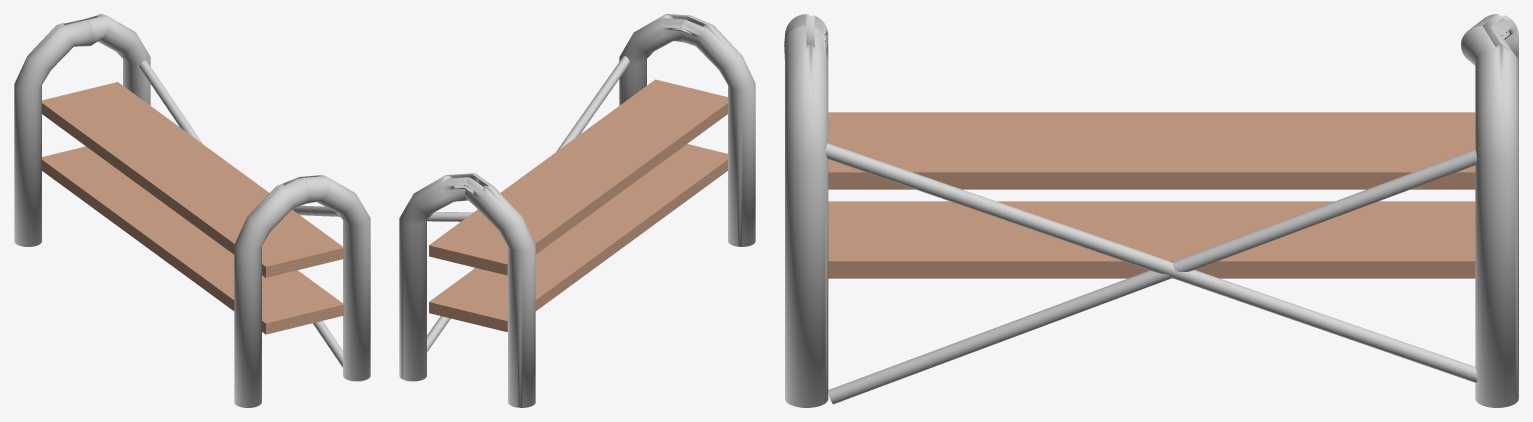
The model's file is shelf.dae.
3 views of the same model, side by side, from view 1: azimuth 30°, elevation 25°; view 2: azimuth 150°, elevation 25°; view 3: azimuth 270°, elevation 25° (orthographic). The views are drawn at different scales.
Visible parts, largest first — view 1: Cube, Cylinder, Cylinder_001, Cylinder_003, Cylinder_002; view 2: Cube, Cylinder_001, Cylinder, Cylinder_002, Cylinder_003; view 3: Cube, Cylinder_001, Cylinder, Cylinder_002, Cylinder_003.
Part boxes in pixels (x1,y1,x2,y2): Cube: [42, 82, 344, 334]; Cylinder: [234, 175, 370, 407]; Cylinder_001: [14, 14, 150, 246]; Cylinder_003: [139, 60, 342, 367]; Cylinder_002: [292, 205, 339, 216]; Cube: [429, 79, 727, 331]; Cylinder_001: [399, 173, 535, 407]; Cylinder: [619, 14, 755, 246]; Cylinder_002: [427, 56, 629, 351]; Cylinder_003: [427, 212, 473, 221]; Cube: [828, 112, 1475, 278]; Cylinder_001: [1461, 14, 1518, 407]; Cylinder: [784, 14, 828, 407]; Cylinder_002: [825, 143, 1477, 382]; Cylinder_003: [828, 149, 1476, 404].
Size of the model in its own units: 3.38 by 10.33 by 5.21.
